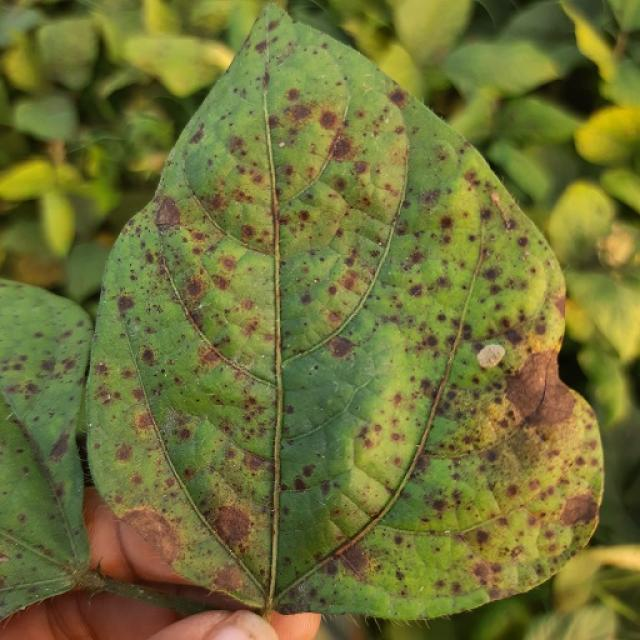Anthracnose: (488, 332, 603, 579), (158, 207, 294, 380), (423, 332, 568, 457), (255, 36, 350, 206), (183, 106, 282, 233), (276, 180, 352, 250), (353, 133, 413, 221), (502, 348, 564, 426), (117, 508, 180, 569), (314, 519, 379, 578), (212, 504, 253, 546), (149, 195, 189, 233), (557, 489, 595, 527), (209, 564, 246, 591), (490, 189, 515, 228), (154, 195, 183, 228), (339, 544, 369, 574), (48, 430, 72, 462), (476, 343, 505, 368), (285, 103, 313, 125), (329, 335, 355, 358), (552, 288, 567, 324), (331, 137, 352, 159), (135, 410, 155, 431), (116, 294, 135, 316), (319, 110, 339, 129), (114, 443, 133, 462), (388, 89, 407, 106), (140, 348, 156, 367), (39, 358, 57, 374), (186, 281, 202, 298), (94, 361, 110, 378), (219, 256, 236, 272), (483, 266, 501, 281), (254, 39, 269, 54), (475, 529, 490, 544), (407, 284, 423, 298), (293, 476, 307, 491), (440, 216, 454, 230), (485, 449, 498, 463), (516, 236, 529, 248), (505, 219, 516, 230), (17, 513, 27, 523), (0, 553, 9, 564), (278, 141, 285, 148), (160, 368, 166, 374), (313, 365, 319, 371)
Blackgram: (88, 8, 602, 618)
